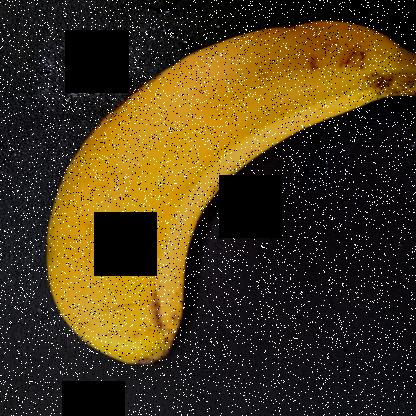freshripe: (32, 8, 415, 368)
